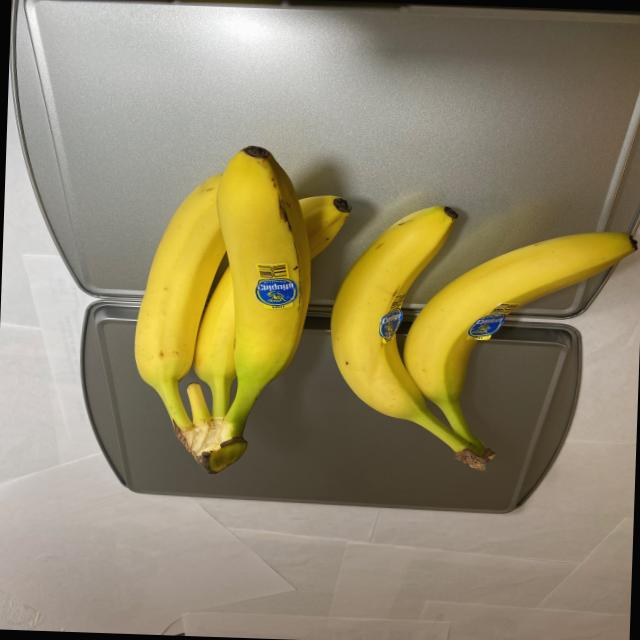banana: (319, 195, 640, 496), (124, 126, 357, 478)
